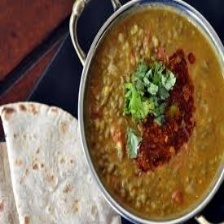dal: (86, 6, 224, 220)
